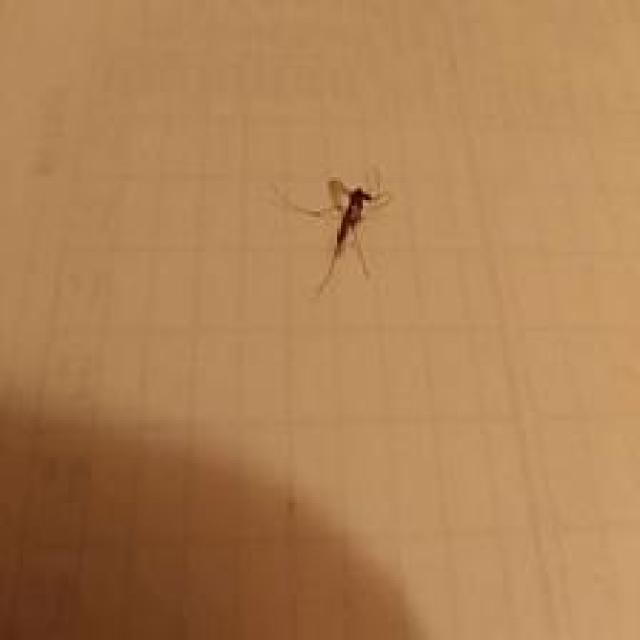Culex: (273, 173, 393, 298)
